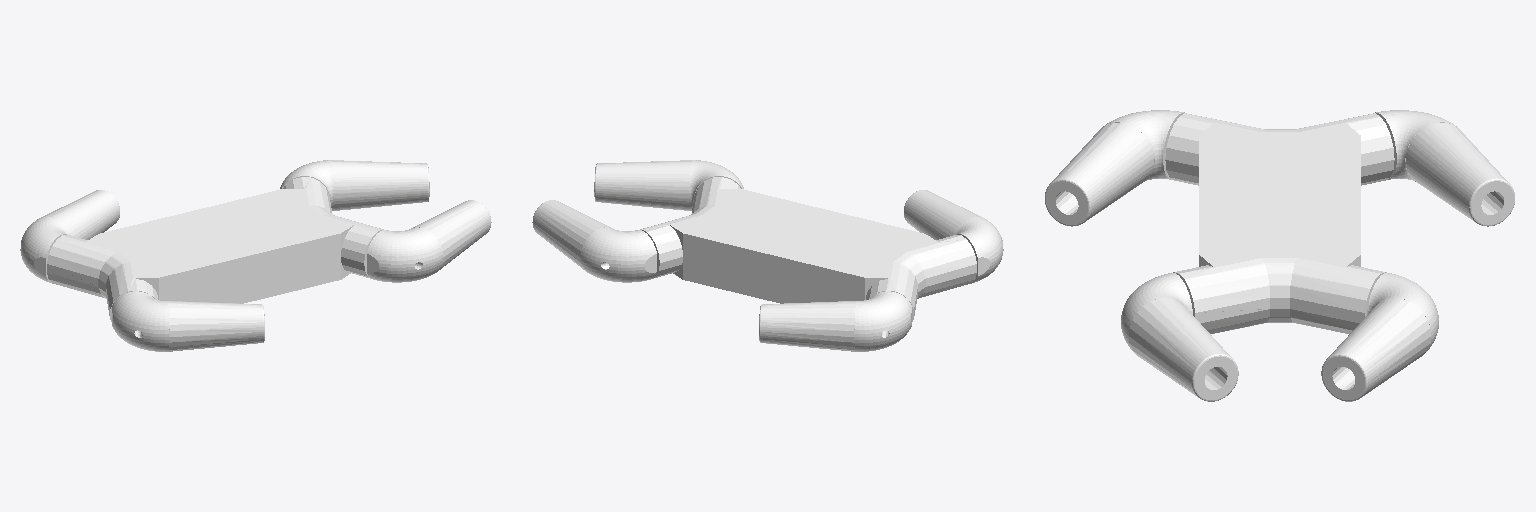
robot.urdf — 26_degree:
<?xml version="1.0" encoding="utf-8"?>
<!-- This URDF was automatically created by SolidWorks to URDF Exporter! Originally created by [author] ([email redacted]) 
     Commit Version: 1.5.1-0-g916b5db  Build Version: 1.5.7152.31018
     For more information, please see http://wiki.ros.org/sw_urdf_exporter -->
<robot
  name="26_degree">
  <link
    name="base_link">
    <inertial>
      <origin
        xyz="0 5.0846E-08 -5.0512E-09"
        rpy="0 0 0" />
      <mass
        value="2.942" />
      <inertia
        ixx="0.0094589"
        ixy="3.0696E-10"
        ixz="-1.532E-10"
        iyy="0.0479264"
        iyz="-2.4484E-18"
        izz="0.0549545" />
    </inertial>
    <visual>
      <origin
        xyz="0 0 0"
        rpy="0 0 0" />
      <geometry>
        <mesh
          filename="package://26_degree/meshes/base_link.STL" />
      </geometry>
      <material
        name="">
        <color
          rgba="1 1 1 1" />
      </material>
    </visual>
    <collision>
      <origin
        xyz="0 0 0"
        rpy="0 0 0" />
      <geometry>
        <mesh
          filename="package://26_degree/meshes/base_link.STL" />
      </geometry>
    </collision>
  </link>
  <link
    name="left_front_link">
    <inertial>
      <origin
        xyz="-9.2539E-08 0.066867 -0.0074516"
        rpy="0 0 0" />
      <mass
        value="0.092" />
      <inertia
        ixx="0.0002604"
        ixy="1.7445E-10"
        ixz="7.8394E-10"
        iyy="0.0000741"
        iyz="-0.0000668"
        izz="0.0002360" />
    </inertial>
    <visual>
      <origin
        xyz="0 0 0"
        rpy="0 0 0" />
      <geometry>
        <mesh
          filename="package://26_degree/meshes/left_front_link.STL" />
      </geometry>
      <material
        name="">
        <color
          rgba="1 1 1 1" />
      </material>
    </visual>
    <collision>
      <origin
        xyz="0 0 0"
        rpy="0 0 0" />
      <geometry>
        <mesh
          filename="package://26_degree/meshes/left_front_link.STL" />
      </geometry>
    </collision>
  </link>
  <joint
    name="left_front_leg"
    type="continuous">
    <origin
      xyz="0.17515 0.092576 0"
      rpy="1.5708 1.5708 0" />
    <parent
      link="base_link" />
    <child
      link="left_front_link" />
    <axis
      xyz="0 0.43837 -0.89879" />
    <limit
      effort="5"
      velocity="487" />
  </joint>
  <link
    name="right_front_link">
    <inertial>
      <origin
        xyz="9.2539E-08 0.066867 0.0074516"
        rpy="0 0 0" />
      <mass
        value="0.092" />
      <inertia
        ixx="0.0002604"
        ixy="-1.7445E-10"
        ixz="7.8394E-10"
        iyy="0.0000741"
        iyz="0.0000668"
        izz="0.000236" />
    </inertial>
    <visual>
      <origin
        xyz="0 0 0"
        rpy="0 0 0" />
      <geometry>
        <mesh
          filename="package://26_degree/meshes/right_front_link.STL" />
      </geometry>
      <material
        name="">
        <color
          rgba="1 1 1 1" />
      </material>
    </visual>
    <collision>
      <origin
        xyz="0 0 0"
        rpy="0 0 0" />
      <geometry>
        <mesh
          filename="package://26_degree/meshes/right_front_link.STL" />
      </geometry>
    </collision>
  </link>
  <joint
    name="right_front_leg"
    type="continuous">
    <origin
      xyz="0.17515 -0.092576 0"
      rpy="1.5708 1.5708 0" />
    <parent
      link="base_link" />
    <child
      link="right_front_link" />
    <axis
      xyz="0 0.43837 0.89879" />
    <limit
      effort="5"
      velocity="487" />
  </joint>
  <link
    name="right_back_link">
    <inertial>
      <origin
        xyz="8.2493E-08 0.056834 0.03601"
        rpy="0 0 0" />
      <mass
        value="0.092" />
      <inertia
        ixx="0.0002604"
        ixy="-5.119E-10"
        ixz="1.882E-10"
        iyy="0.0000526"
        iyz="-2.27E-05"
        izz="0.0002575" />
    </inertial>
    <visual>
      <origin
        xyz="0 0 0"
        rpy="0 0 0" />
      <geometry>
        <mesh
          filename="package://26_degree/meshes/right_back_link.STL" />
      </geometry>
      <material
        name="">
        <color
          rgba="1 1 1 1" />
      </material>
    </visual>
    <collision>
      <origin
        xyz="0 0 0"
        rpy="0 0 0" />
      <geometry>
        <mesh
          filename="package://26_degree/meshes/right_back_link.STL" />
      </geometry>
    </collision>
  </link>
  <joint
    name="right_back_leg"
    type="continuous">
    <origin
      xyz="-0.17515 -0.092576 0"
      rpy="2.0246 1.5708 0" />
    <parent
      link="base_link" />
    <child
      link="right_back_link" />
    <axis
      xyz="0 0 1" />
    <limit
      effort="5"
      velocity="487" />
  </joint>
  <link
    name="left_back_link">
    <inertial>
      <origin
        xyz="-8.2493E-08 0.035296 -0.05728"
        rpy="0 0 0" />
      <mass
        value="0.092" />
      <inertia
        ixx="0.0002604"
        ixy="5.4259E-10"
        ixz="-5.525E-11"
        iyy="0.0001098"
        iyz="0.0000947"
        izz="0.0002003" />
    </inertial>
    <visual>
      <origin
        xyz="0 0 0"
        rpy="0 0 0" />
      <geometry>
        <mesh
          filename="package://26_degree/meshes/left_back_link.STL" />
      </geometry>
      <material
        name="">
        <color
          rgba="1 1 1 1" />
      </material>
    </visual>
    <collision>
      <origin
        xyz="0 0 0"
        rpy="0 0 0" />
      <geometry>
        <mesh
          filename="package://26_degree/meshes/left_back_link.STL" />
      </geometry>
    </collision>
  </link>
  <joint
    name="left_back_leg"
    type="continuous">
    <origin
      xyz="-0.17515 0.092576 0"
      rpy="1.5708 1.5708 0" />
    <parent
      link="base_link" />
    <child
      link="left_back_link" />
    <axis
      xyz="0 -0.43837 -0.89879" />
    <limit
      effort="5"
      velocity="487" />
  </joint>
</robot>

--- Render facts (derived) ---
The picture shows the robot from 3 angles, left to right: view 1: azimuth 30°, elevation 25°; view 2: azimuth 150°, elevation 25°; view 3: azimuth 270°, elevation 25°; orthographic projection.
Model 26_degree with 5 links and 4 joints (4 continuous), rooted at base_link, posed every joint at zero.
Visible links, largest first — view 1: base_link, right_back_link, right_front_link, left_front_link, left_back_link; view 2: base_link, left_back_link, left_front_link, right_front_link, right_back_link; view 3: base_link, right_back_link, left_back_link, left_front_link, right_front_link.
Link boxes in pixels (x1,y1,x2,y2): base_link: [47, 177, 383, 321]; right_back_link: [112, 291, 264, 351]; right_front_link: [367, 200, 491, 282]; left_front_link: [280, 160, 429, 210]; left_back_link: [20, 190, 119, 283]; base_link: [640, 177, 976, 321]; left_back_link: [759, 291, 911, 351]; left_front_link: [532, 200, 656, 282]; right_front_link: [594, 160, 743, 210]; right_back_link: [904, 190, 1003, 283]; base_link: [1165, 113, 1394, 333]; right_back_link: [1045, 110, 1184, 226]; left_back_link: [1375, 110, 1514, 226]; left_front_link: [1321, 273, 1438, 401]; right_front_link: [1121, 273, 1238, 401].
Bounding box of the posed robot: 0.5566 × 0.438 × 0.064 m (x, y, z).
5 mesh visuals loaded from 5 distinct referenced files (5 binary STL).